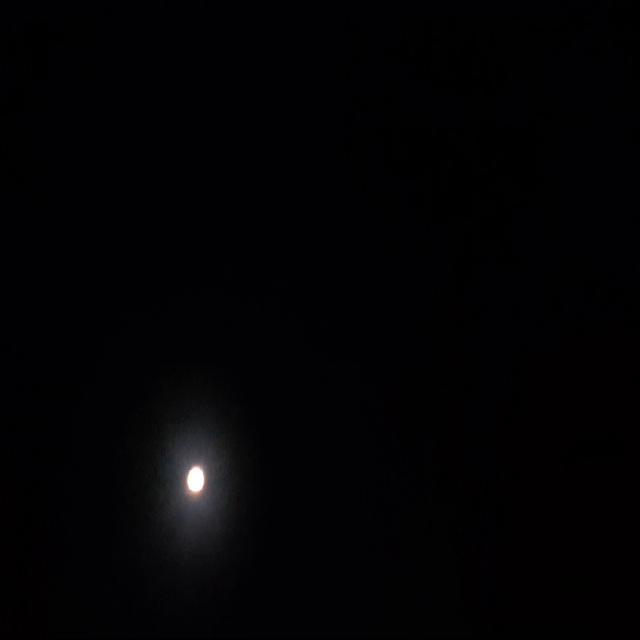moon: (180, 458, 210, 496)
